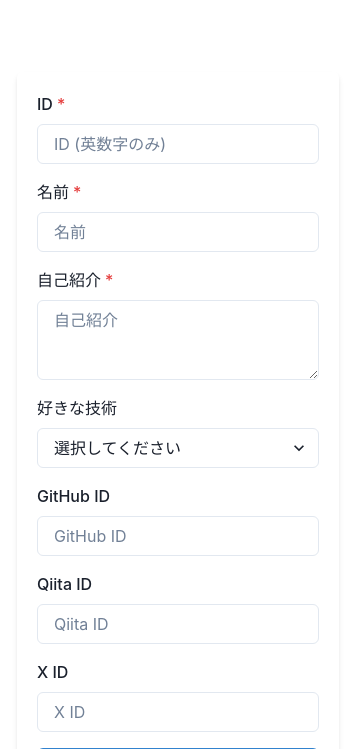
RegisterPage › 紹介文がないときにエラーメッセージがでる
Type "testUser" into the field with placeholder "ID (英数字のみ)" at (178, 144), box top-left (37, 124), bottom-right (319, 164)
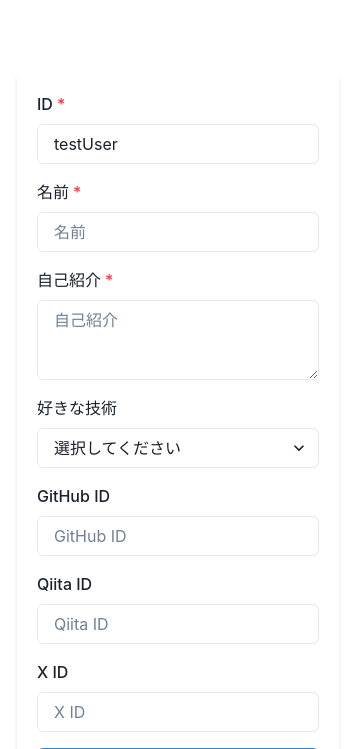
Type "テストユーザー" into the field with placeholder "名前" at (178, 232), box top-left (37, 212), bottom-right (319, 252)
(page scrolled)
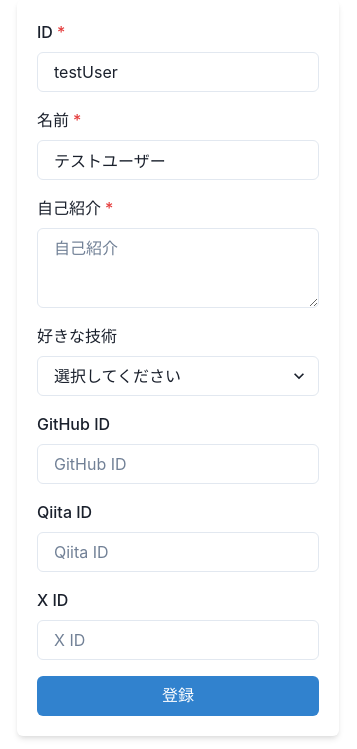
Click the button "登録" at (178, 696), box top-left (37, 676), bottom-right (319, 716)
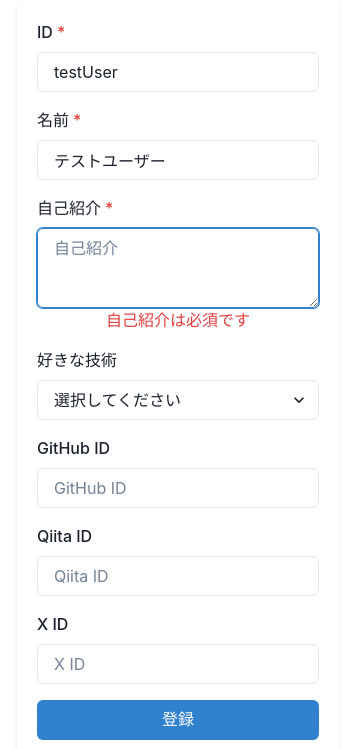
Result: the text "自己紹介は必須です" is shown at top-left (106, 310), bottom-right (250, 330)
